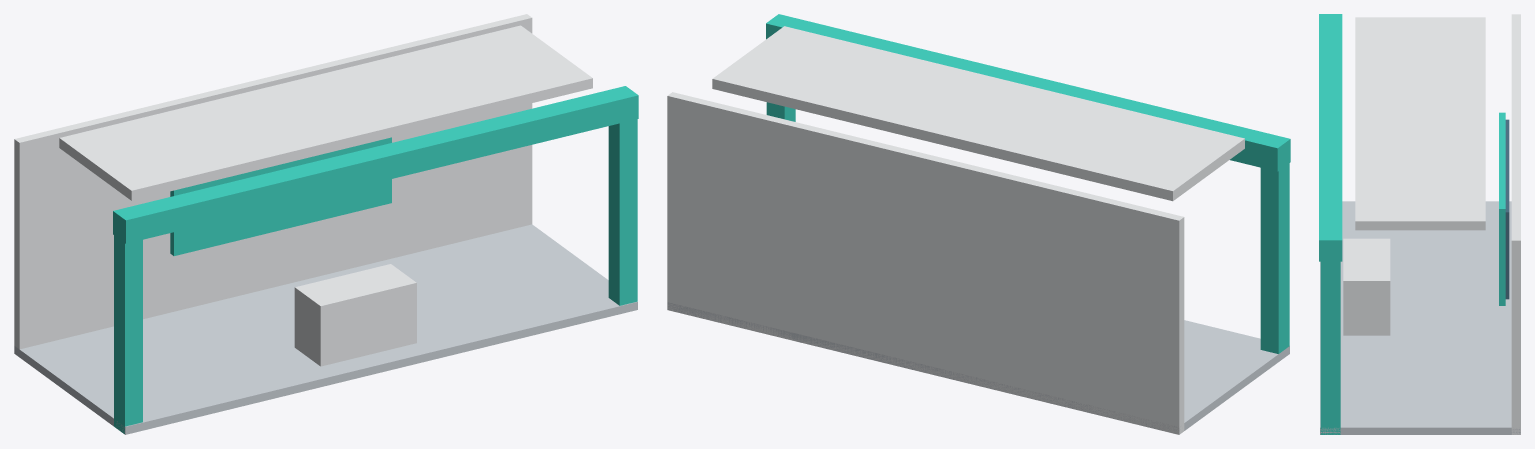
3 views of the same model, side by side, from view 1: azimuth 30°, elevation 25°; view 2: azimuth 150°, elevation 25°; view 3: azimuth 270°, elevation 25° (orthographic). The views are drawn at different scales.
Parts seen in each view (by area): view 1: Exhibition Booth Concept; view 2: Exhibition Booth Concept; view 3: Exhibition Booth Concept.
Boxes of the visible parts, x1,y1,x2,y2 form: Exhibition Booth Concept: (14,14,638,434); Exhibition Booth Concept: (667,14,1290,434); Exhibition Booth Concept: (1319,14,1520,434).
Bounding box in the file's own units: 8 × 3.34 × 3.01.
